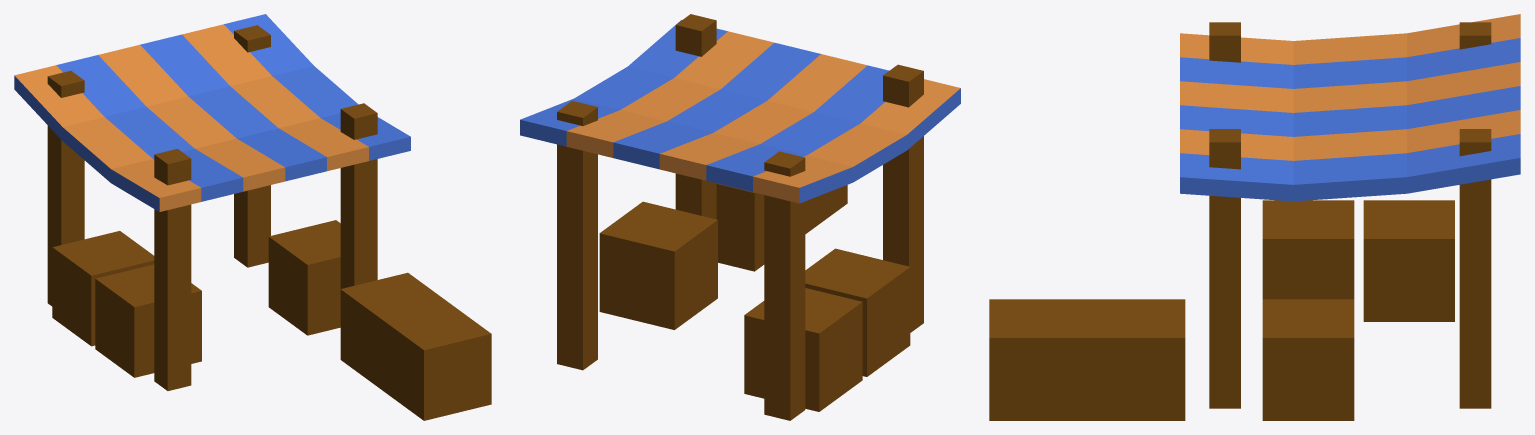
The model's file is palatka.fbx.
The picture shows the model from 3 angles, left to right: view 1: azimuth 30°, elevation 25°; view 2: azimuth 150°, elevation 25°; view 3: azimuth 270°, elevation 25°; orthographic projection. The views are drawn at different scales.
Parts seen in each view (by area): view 1: Cube.001; view 2: Cube.001; view 3: Cube.001.
Part boxes in pixels (x1=…): Cube.001: x1=14, y1=14, x2=491, y2=420; Cube.001: x1=520, y1=14, x2=960, y2=420; Cube.001: x1=989, y1=14, x2=1520, y2=420.
Size of the model in its own units: 200 by 173 by 312.
